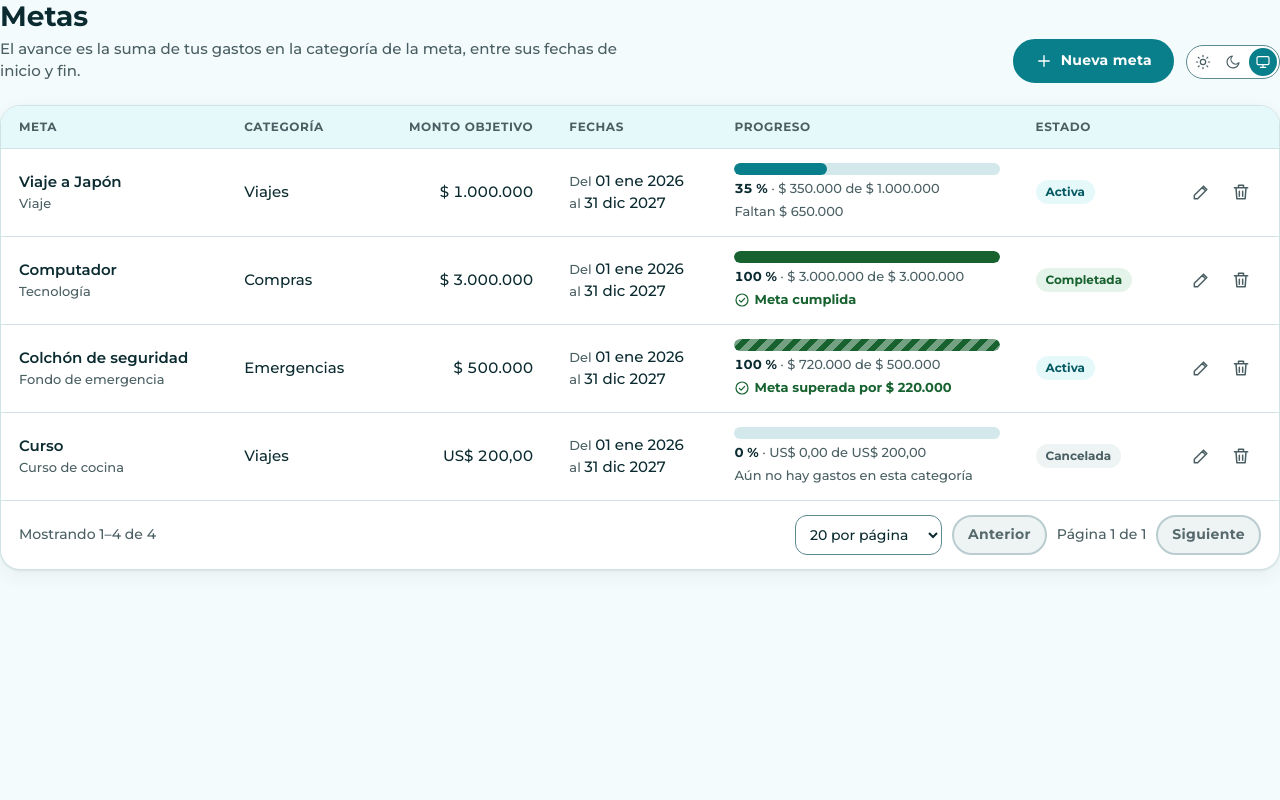
Metas: create › rejects an end date that is not after the start date and pesos with decimals
Check: the text "Viaje a Japón" is shown, box [19,172,122,191]
Click the button "Nueva meta" at (1093, 61), box [1013,39,1174,83]
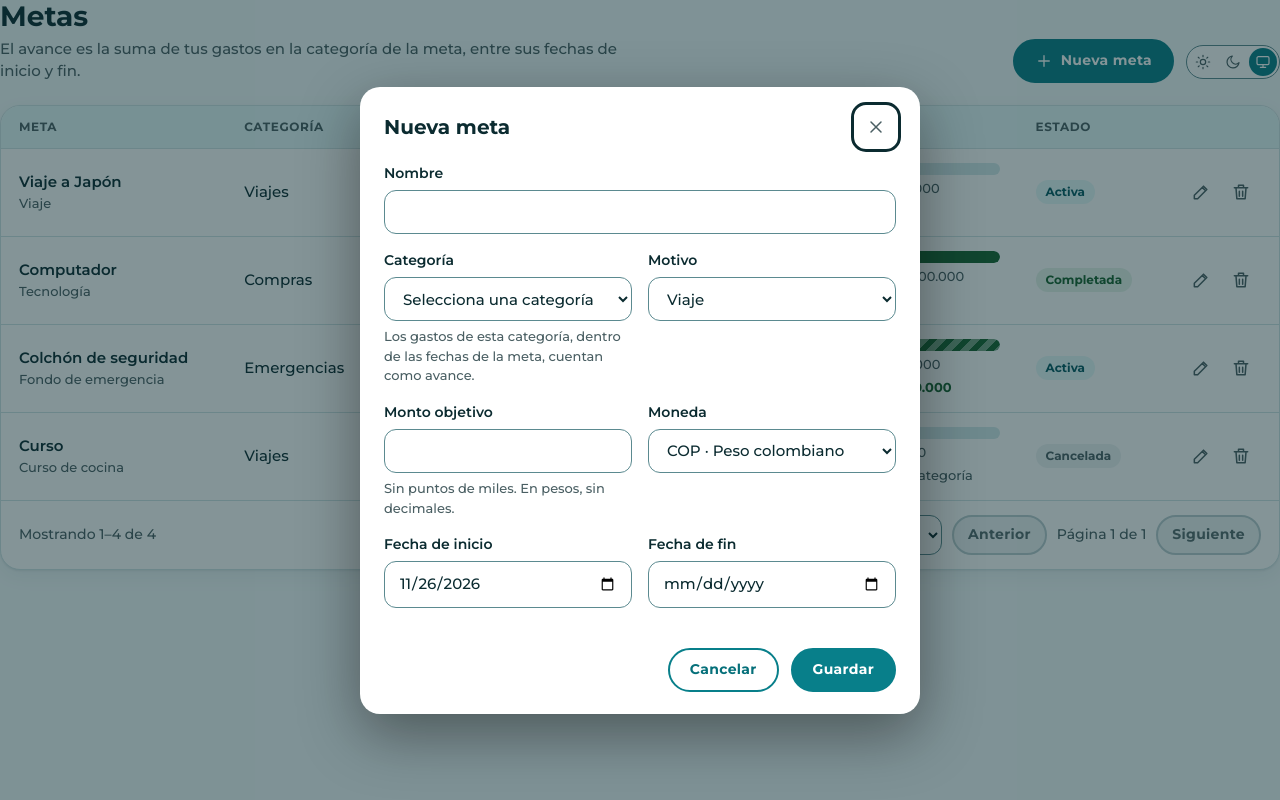
Type "Casa" into the field labelled "Nombre" at (640, 212), box [384,190,896,234]
Select "Compras" in the dropdown labelled "Categoría" at (508, 299), box [384,277,632,321]
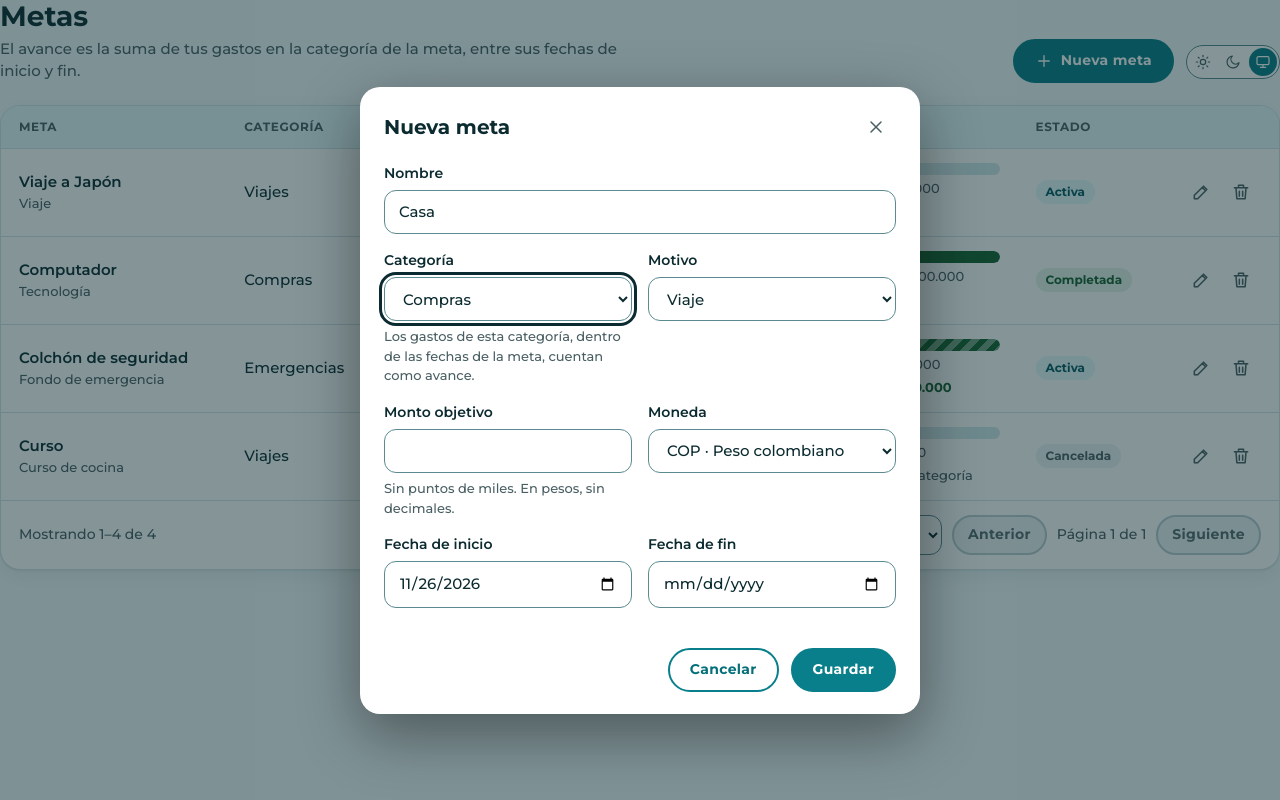
Type "1500000,50" into the field labelled "Monto objetivo" at (508, 451), box [384,428,632,473]
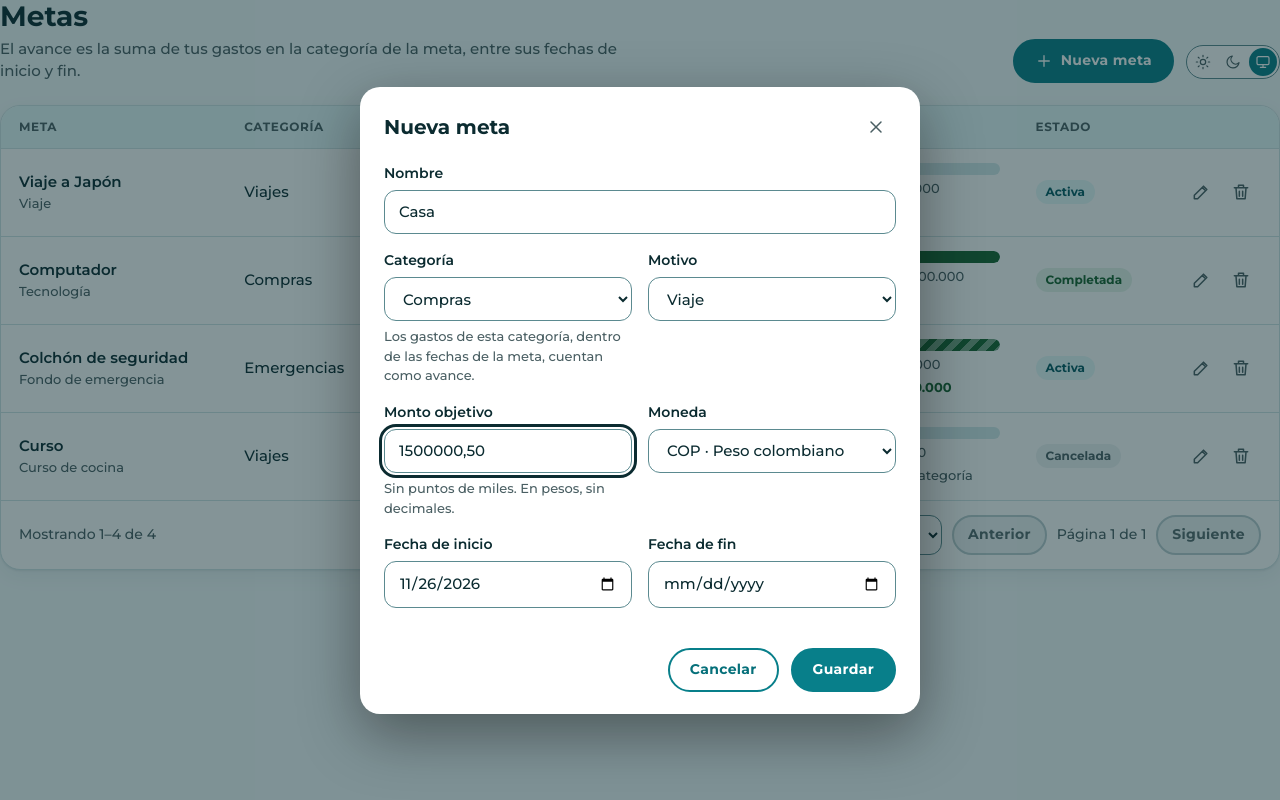
Type "2099-05-10" into the date field labelled "Fecha de inicio" at (508, 584), box [384,561,632,608]
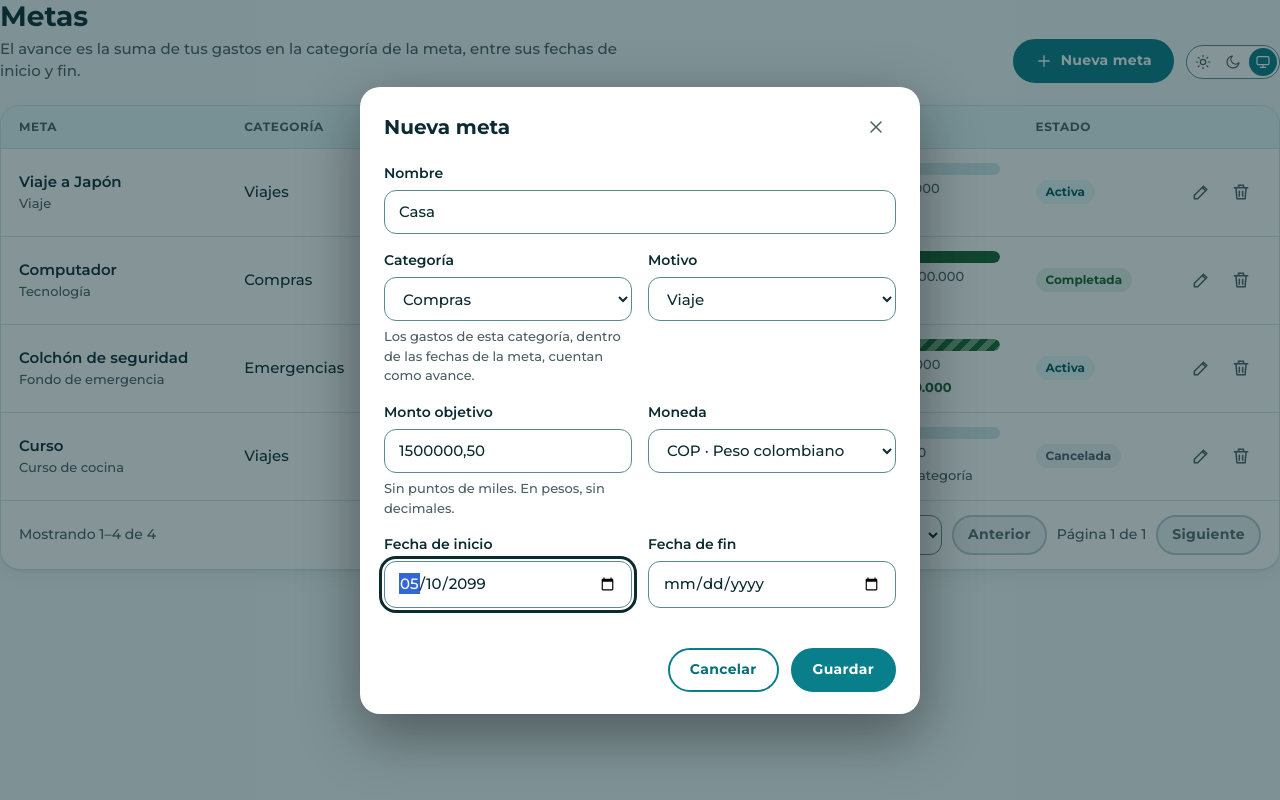
Type "2099-05-10" into the date field labelled "Fecha de fin" at (772, 584), box [648,561,896,608]
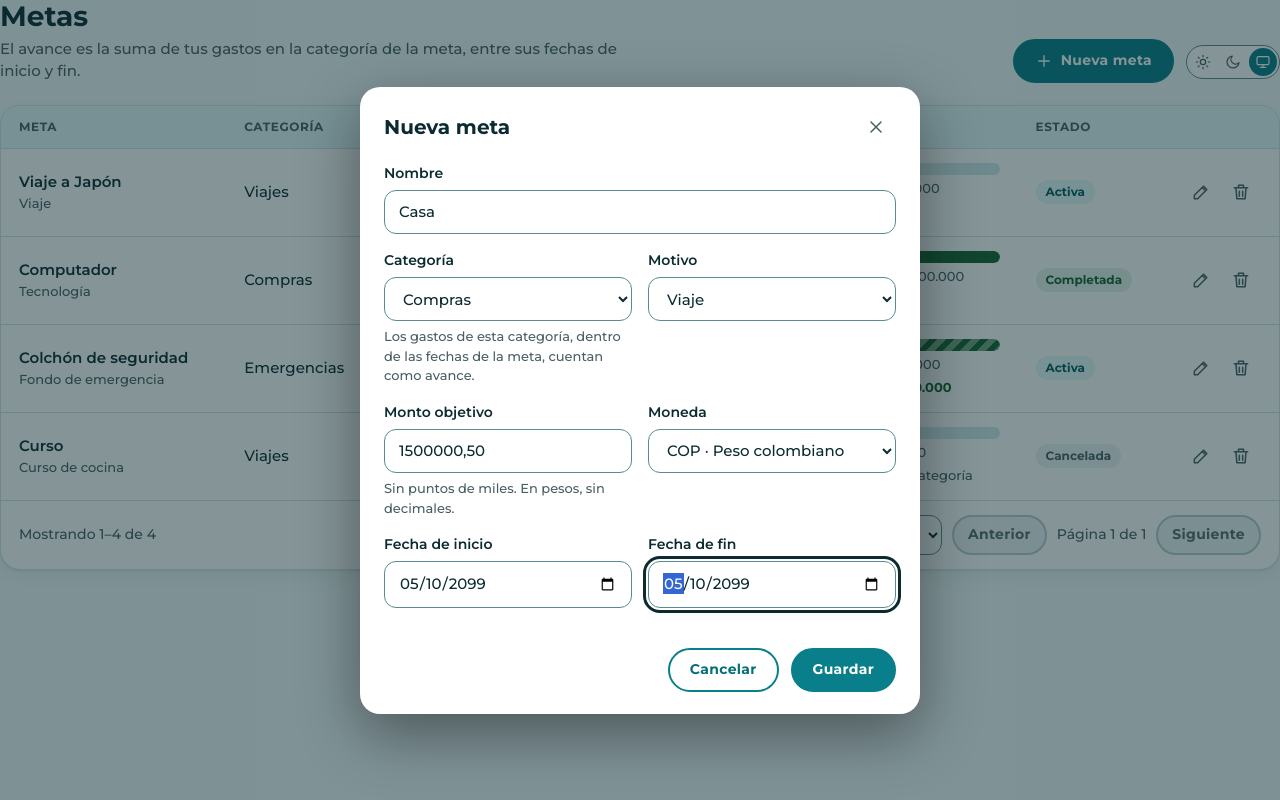
Click the button "Guardar" at (843, 670), box [791,648,896,692]
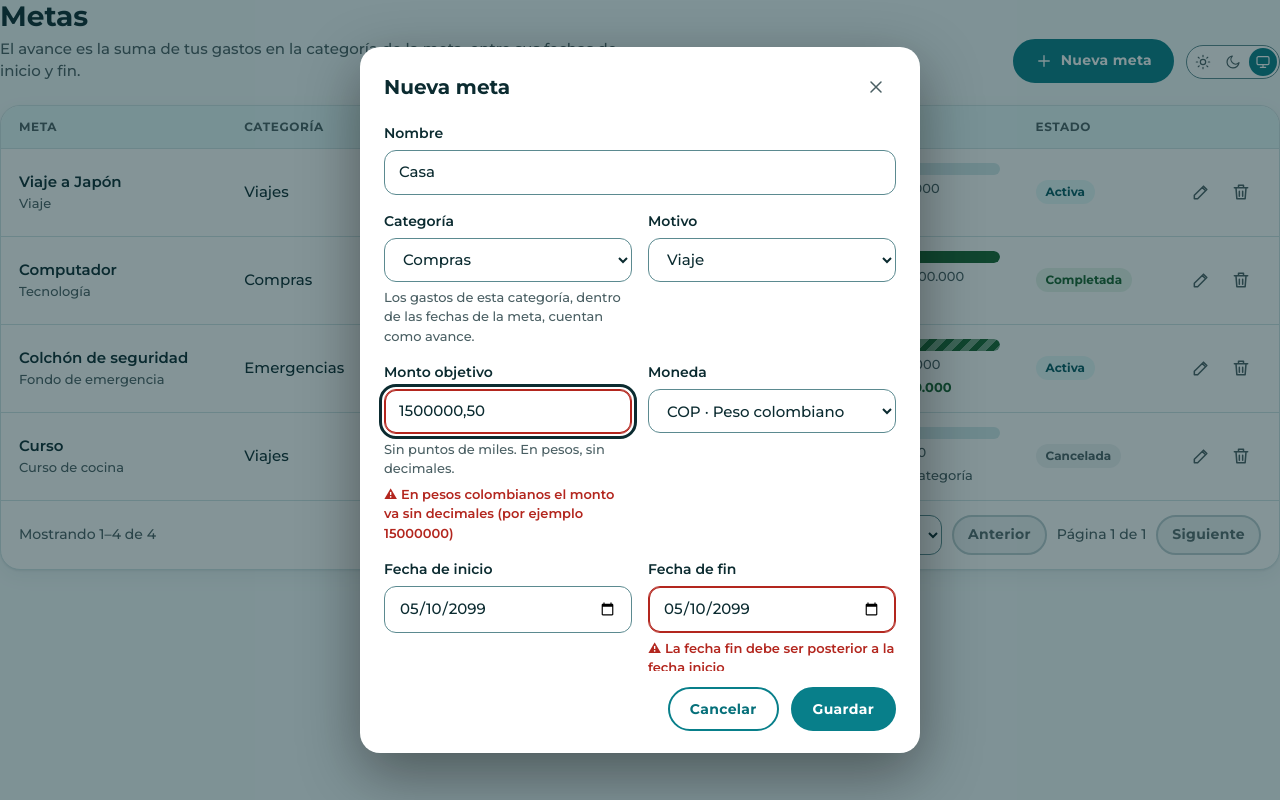
Check: the text "La fecha fin debe ser posterior a la fecha inicio" is shown, box [648,638,896,671]
Check: the text "En pesos colombianos el monto va sin decimales (por ejemplo 15000000)" is shown, box [384,484,632,543]
